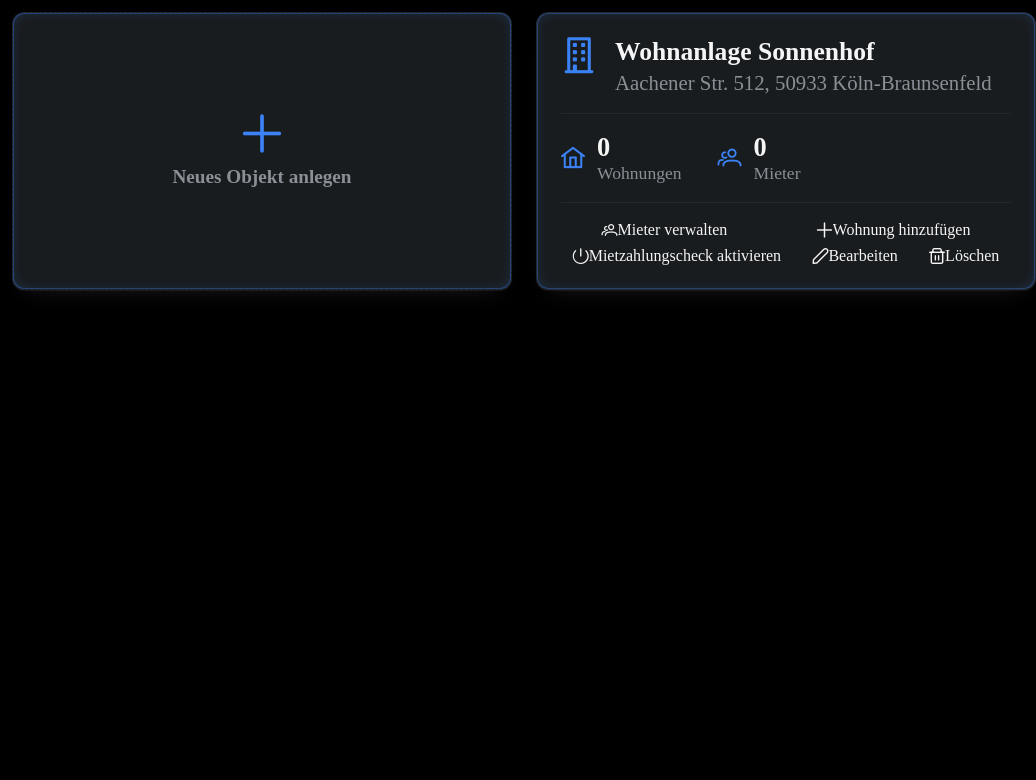
PropertyList › shows the failure and keeps the button when activating the rent payment check fails
Click the button "Mietzahlungscheck aktivieren" at (677, 256), box [561,247,793,265]
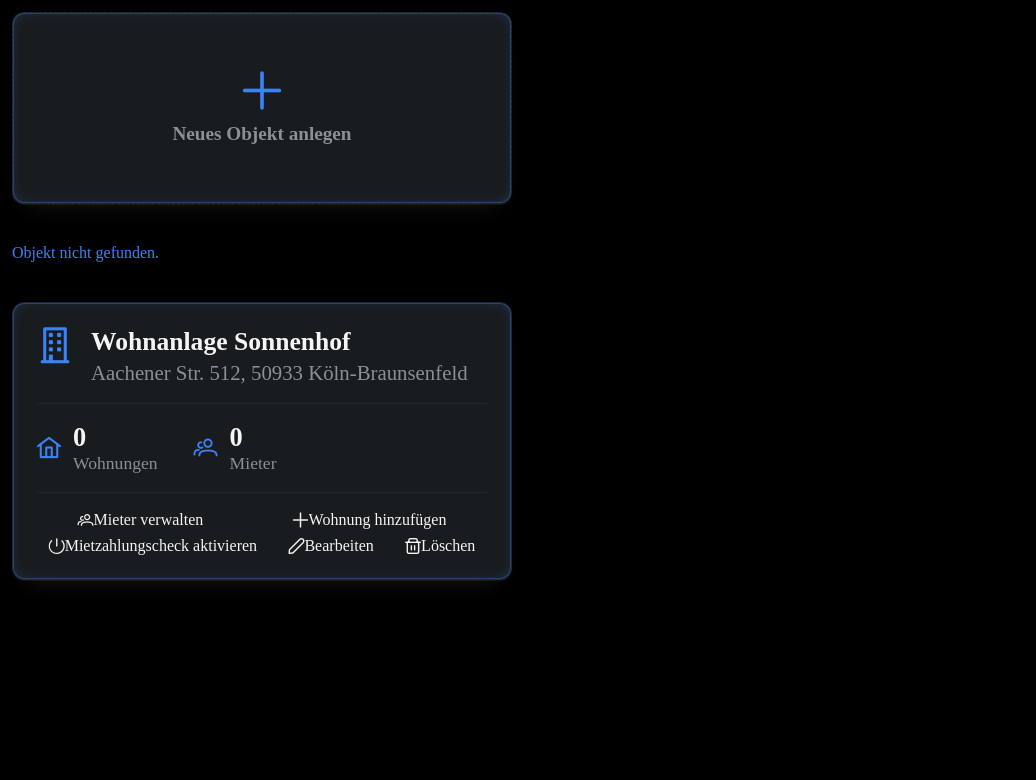
Expected: the button "Mietzahlungscheck aktivieren" is shown, [37,537,269,555]
Now the message "Objekt nicht gefunden." is shown, box [12,244,159,261]
